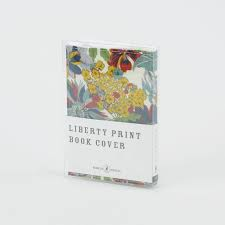book: (61, 40, 160, 190)
